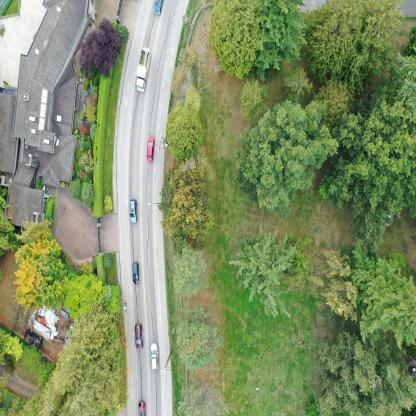Coniferous Tree: (307, 2, 404, 92), (360, 248, 416, 351), (235, 230, 289, 320), (314, 335, 373, 416), (57, 306, 113, 390), (68, 335, 121, 416), (207, 0, 253, 79), (166, 158, 208, 235), (319, 250, 356, 322), (180, 305, 218, 371), (376, 358, 416, 415), (164, 108, 205, 153), (181, 378, 223, 416), (176, 240, 203, 297), (289, 229, 311, 284), (34, 382, 66, 416), (16, 215, 51, 245), (244, 78, 262, 121), (283, 72, 307, 100), (80, 184, 96, 205), (103, 284, 112, 306), (69, 182, 78, 202)
Deciduous Tree: (13, 245, 64, 306), (63, 269, 104, 312), (86, 24, 120, 74)
